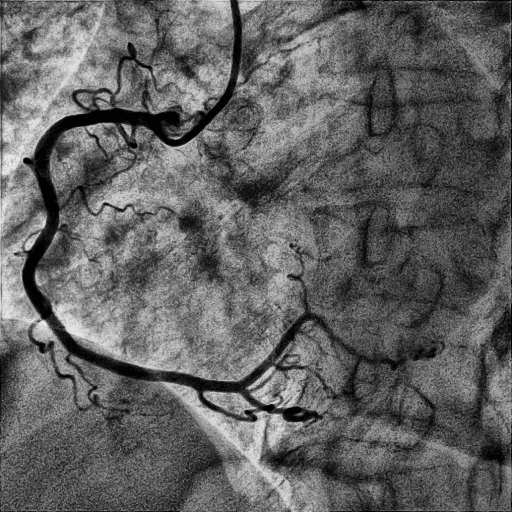pborca: (243, 311, 382, 387)
pda: (241, 390, 284, 414)
rca: (22, 108, 246, 393)
